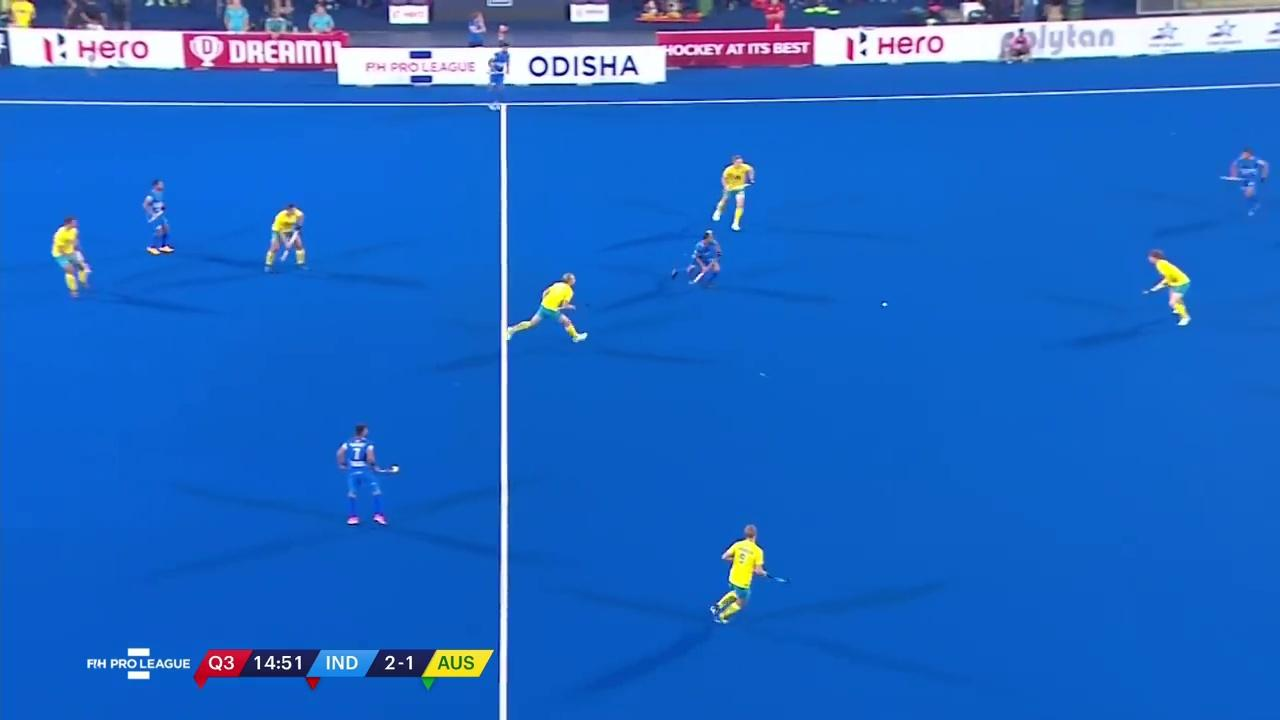ball: (877, 296, 892, 312)
